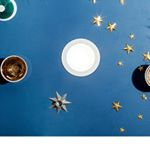cups: (1, 53, 32, 85)
